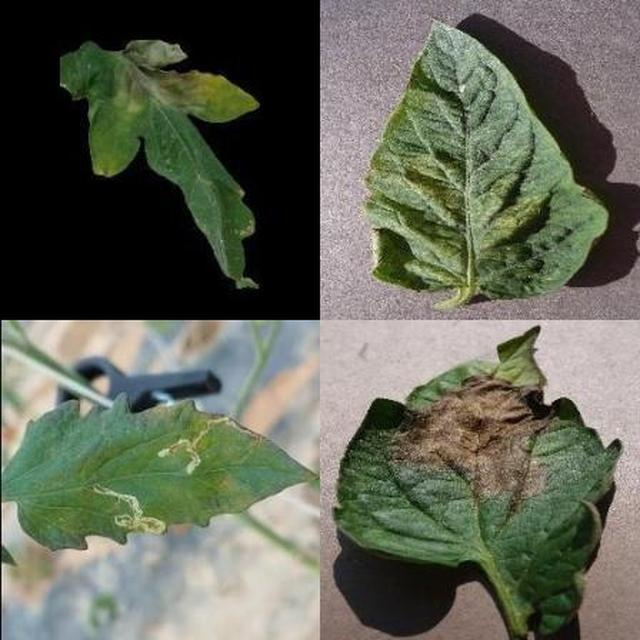Late Blight Leaf: (228, 221, 640, 640)
